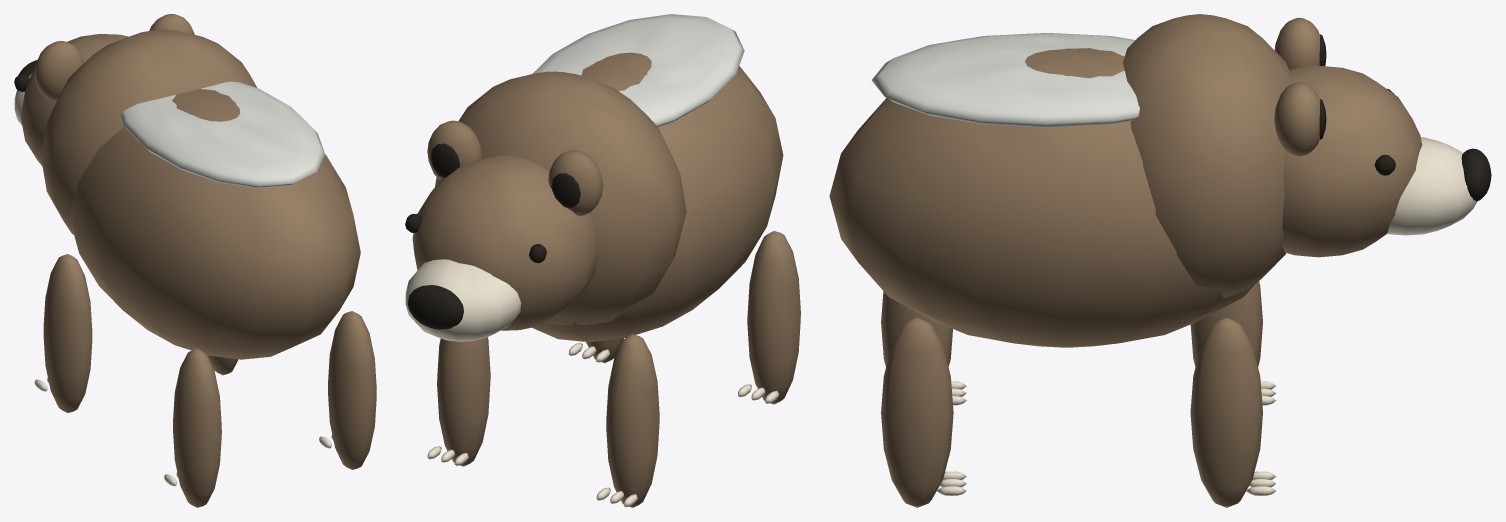
File: bear.glb
The picture shows the model from 3 angles, left to right: view 1: azimuth 30°, elevation 25°; view 2: azimuth 150°, elevation 25°; view 3: azimuth 270°, elevation 25°; orthographic projection. The views are drawn at different scales.
Visible parts, largest first — view 1: bear torso, snow on back, foot, foot.002, foot.003, muzzle; view 2: bear torso, snow on back, foot.002, foot, muzzle, foot.001, nose, foot.003; view 3: bear torso, snow on back, foot.003, foot.001, muzzle, foot, nose, foot.002.
Boxes of the visible parts, bbox=[...] form: bear torso: bbox=[21, 14, 360, 359]; snow on back: bbox=[120, 81, 325, 187]; foot: bbox=[43, 254, 92, 412]; foot.002: bbox=[173, 348, 221, 507]; foot.003: bbox=[328, 311, 376, 469]; muzzle: bbox=[14, 73, 333, 486]; bear torso: bbox=[412, 52, 783, 342]; snow on back: bbox=[532, 14, 744, 127]; foot.002: bbox=[747, 231, 800, 404]; foot: bbox=[606, 334, 659, 507]; muzzle: bbox=[405, 259, 778, 507]; foot.001: bbox=[437, 337, 490, 466]; nose: bbox=[405, 143, 580, 329]; foot.003: bbox=[586, 338, 623, 363]; bear torso: bbox=[829, 14, 1422, 347]; snow on back: bbox=[871, 33, 1139, 127]; foot.003: bbox=[881, 317, 953, 507]; foot.001: bbox=[1190, 317, 1262, 507]; muzzle: bbox=[937, 137, 1476, 495]; foot: bbox=[1190, 281, 1262, 367]; nose: bbox=[1319, 34, 1491, 201]; foot.002: bbox=[881, 291, 952, 366].
Size of the model in its own units: 0.8 by 1.26 by 1.73.
